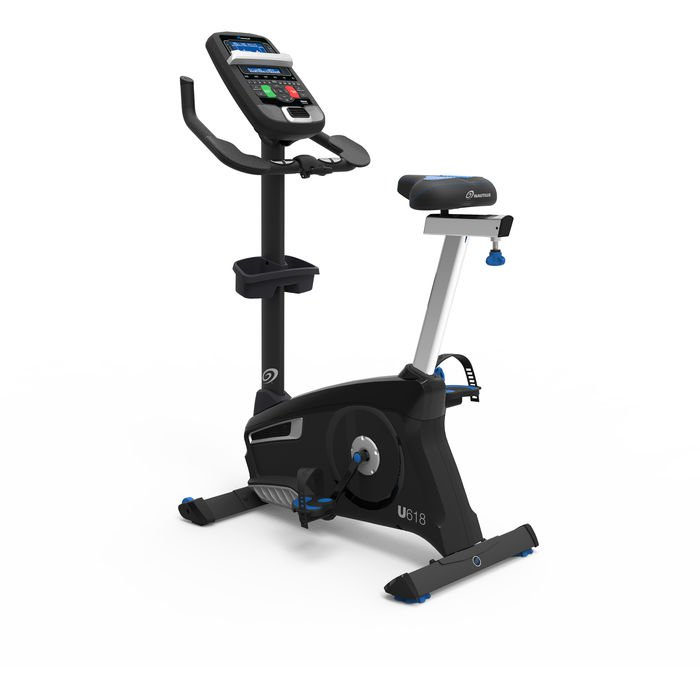gym_bike: (158, 31, 543, 615)
